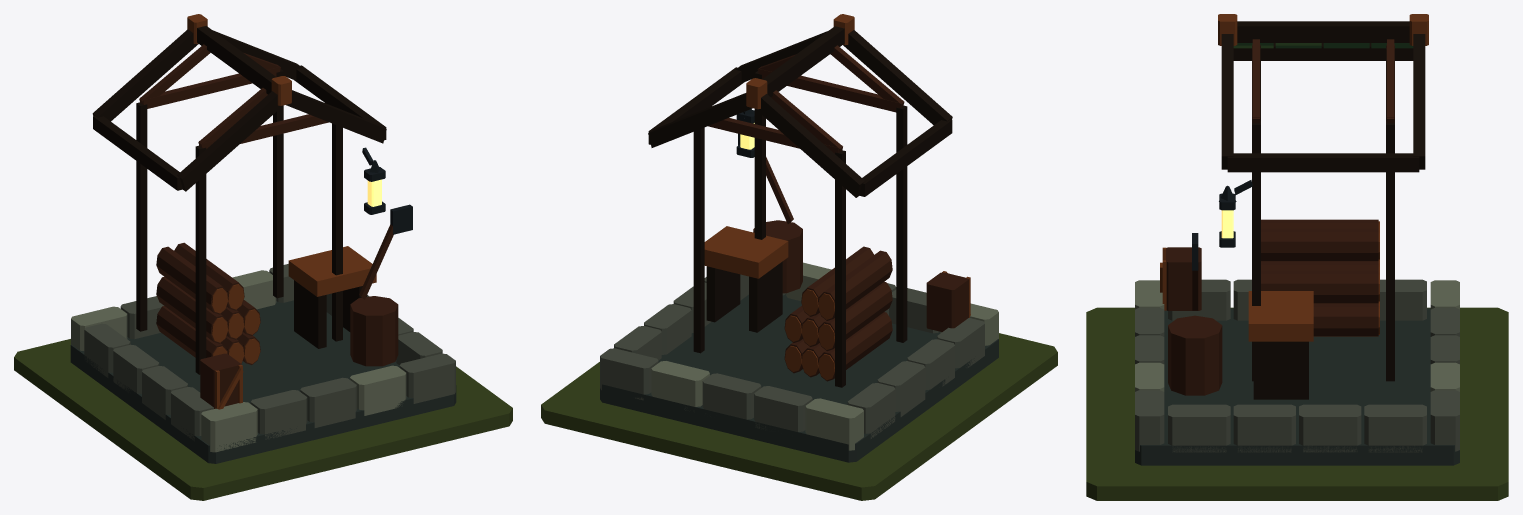
File: timber_yard_t5.glb
3 renders of one model, left to right at view 1: azimuth 30°, elevation 25°; view 2: azimuth 150°, elevation 25°; view 3: azimuth 270°, elevation 25°, orthographic. The views are drawn at different scales.
Visible parts, largest first — view 1: MMR | timber_yard | T05 Architecture.001, MMR | timber_yard | Tier 05 Ground.001; view 2: MMR | timber_yard | T05 Architecture.001, MMR | timber_yard | Tier 05 Ground.001; view 3: MMR | timber_yard | T05 Architecture.001, MMR | timber_yard | Tier 05 Ground.001.
Boxes of the visible parts, x1,y1,x2,y2 form: MMR | timber_yard | T05 Architecture.001: [70, 14, 456, 463]; MMR | timber_yard | Tier 05 Ground.001: [14, 339, 512, 500]; MMR | timber_yard | T05 Architecture.001: [600, 14, 998, 462]; MMR | timber_yard | Tier 05 Ground.001: [541, 333, 1057, 500]; MMR | timber_yard | T05 Architecture.001: [1135, 14, 1459, 465]; MMR | timber_yard | Tier 05 Ground.001: [1086, 307, 1508, 500].
Bounding box in the file's own units: 1.3 × 1.31 × 1.3.
Materials: 2 (1 with a texture image).
